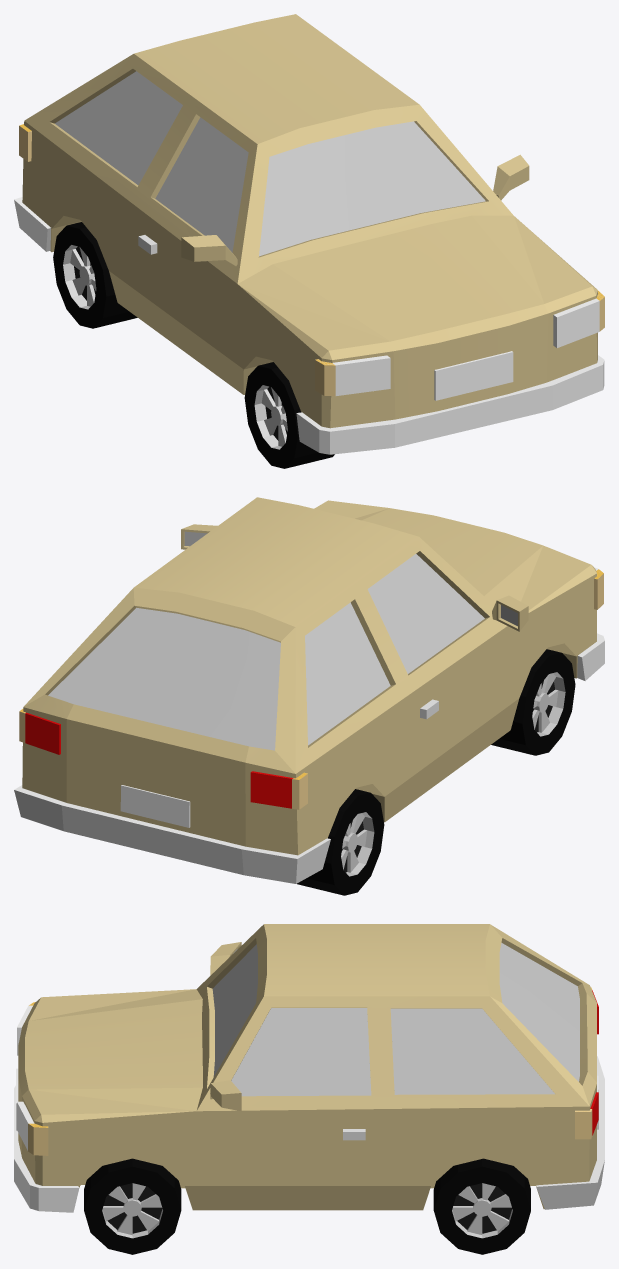
The model's file is Car-09-E.fbx.
3 renders of one model, top to bottom at view 1: azimuth 30°, elevation 25°; view 2: azimuth 150°, elevation 25°; view 3: azimuth 270°, elevation 25°, orthographic. The views are drawn at different scales.
Visible parts, largest first — view 1: Car-09, BR, FR, Head-Light, Light-Right; view 2: Car-09, FR, BR, Break-Light, Light-Right; view 3: Car-09, FL, BL, Light-Left, Head-Light.
Part boxes in pixels (bbox=[...]): Car-09: bbox=[14, 14, 604, 454]; BR: bbox=[53, 222, 137, 328]; FR: bbox=[244, 362, 334, 468]; Head-Light: bbox=[333, 298, 599, 395]; Light-Right: bbox=[19, 125, 335, 396]; Car-09: bbox=[14, 497, 604, 883]; FR: bbox=[491, 649, 575, 755]; BR: bbox=[297, 789, 384, 895]; Break-Light: bbox=[25, 713, 293, 808]; Light-Right: bbox=[292, 570, 603, 809]; Car-09: bbox=[14, 924, 604, 1212]; FL: bbox=[84, 1158, 181, 1254]; BL: bbox=[433, 1158, 530, 1254]; Light-Left: bbox=[28, 1109, 592, 1155]; Head-Light: bbox=[17, 1005, 34, 1150].
Bounding box in the file's own units: 2.45 × 1.79 × 4.05.
